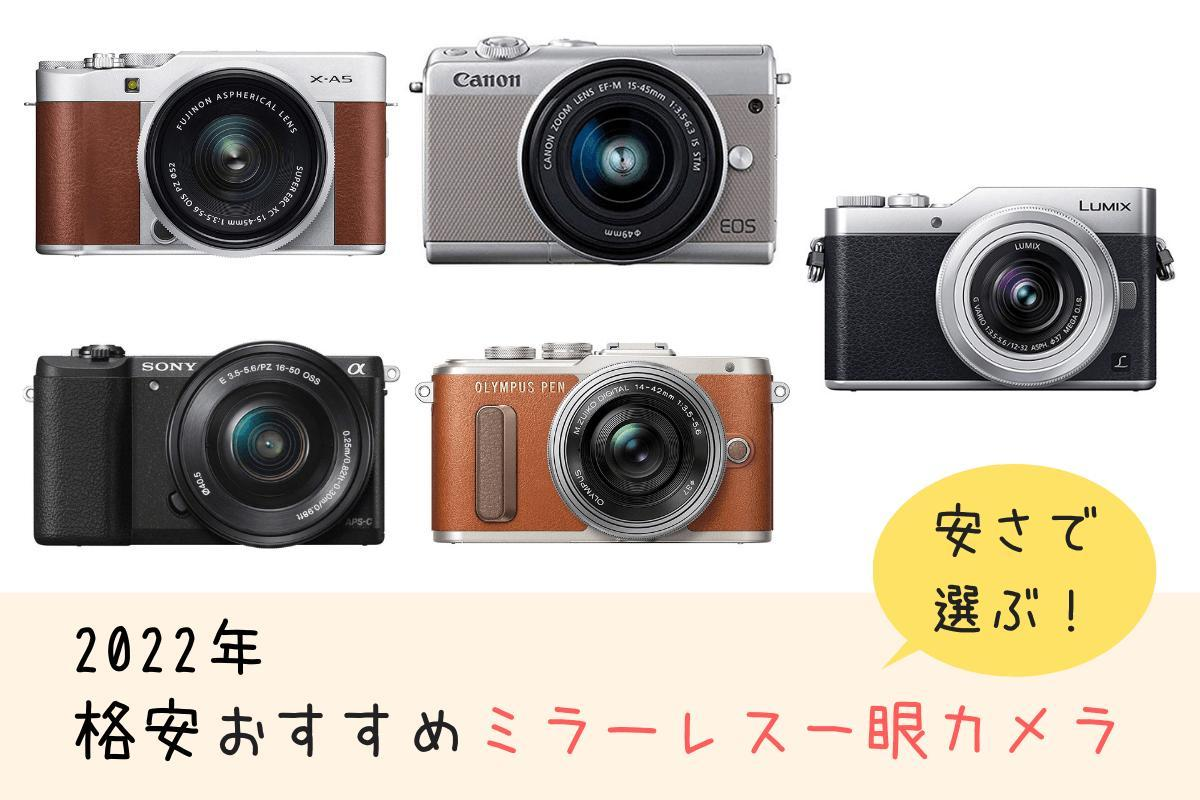degital-camera: (417, 34, 789, 273), (804, 174, 1177, 404), (21, 337, 401, 560), (416, 340, 787, 560), (23, 43, 393, 261)
